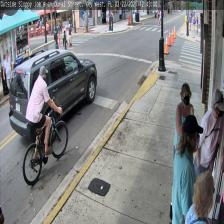person: (194, 88, 224, 220), (26, 65, 62, 164), (169, 83, 195, 220), (171, 114, 203, 223), (183, 170, 215, 224)
